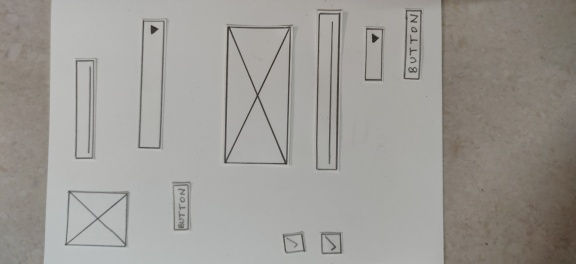button: (401, 8, 424, 82), (169, 179, 192, 232)
checkbox: (317, 231, 345, 257), (281, 230, 307, 255)
dropdown: (137, 17, 167, 151), (361, 23, 385, 84)
img: (222, 23, 292, 168), (63, 186, 130, 251)
text: (315, 9, 340, 171), (72, 56, 97, 161)
